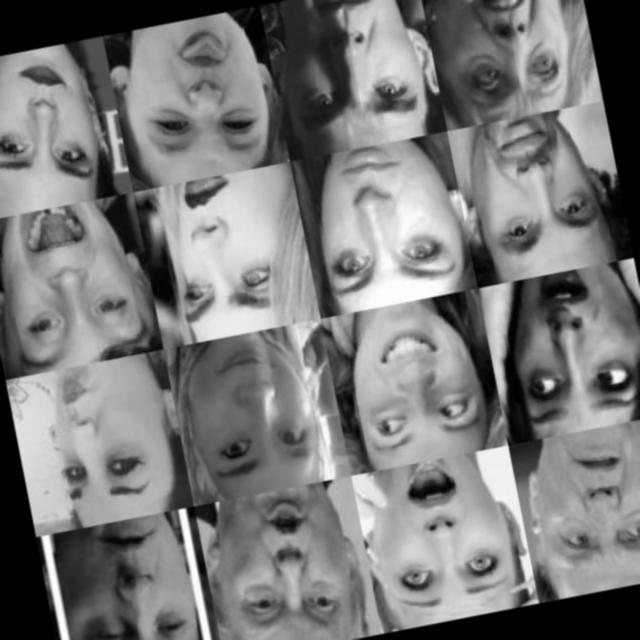angry: (219, 495, 370, 640), (523, 424, 640, 581), (449, 0, 590, 120)
fear: (368, 456, 526, 616), (494, 272, 640, 438), (281, 0, 432, 138)
happy: (174, 330, 343, 491), (342, 303, 502, 463), (125, 12, 282, 168), (0, 203, 151, 362), (29, 362, 178, 517)
neutral: (301, 128, 466, 294), (466, 108, 606, 270), (62, 504, 203, 640), (160, 183, 291, 327), (0, 49, 109, 187)
